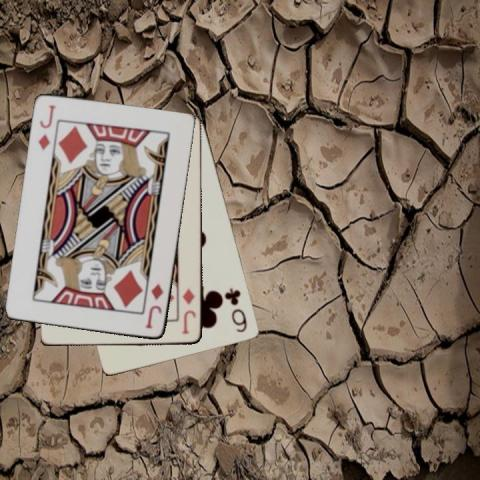6c: (222, 285, 248, 334)
Jd: (35, 102, 58, 151), (143, 281, 165, 331), (179, 286, 198, 336)
